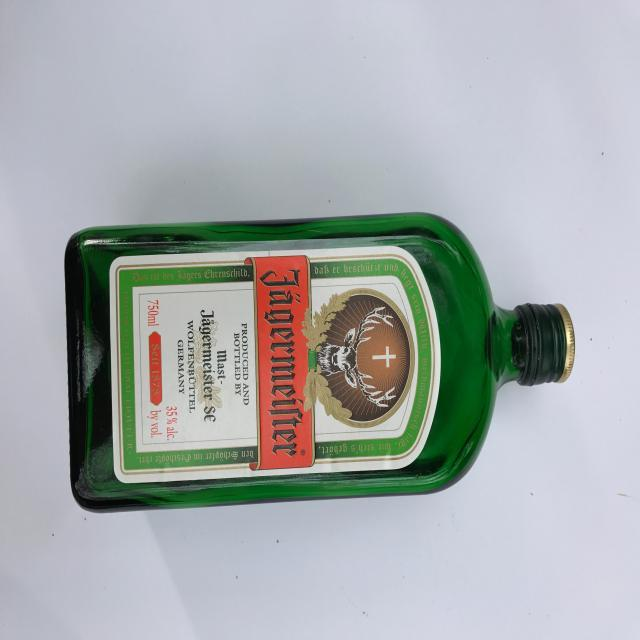glass: (62, 212, 578, 514)
